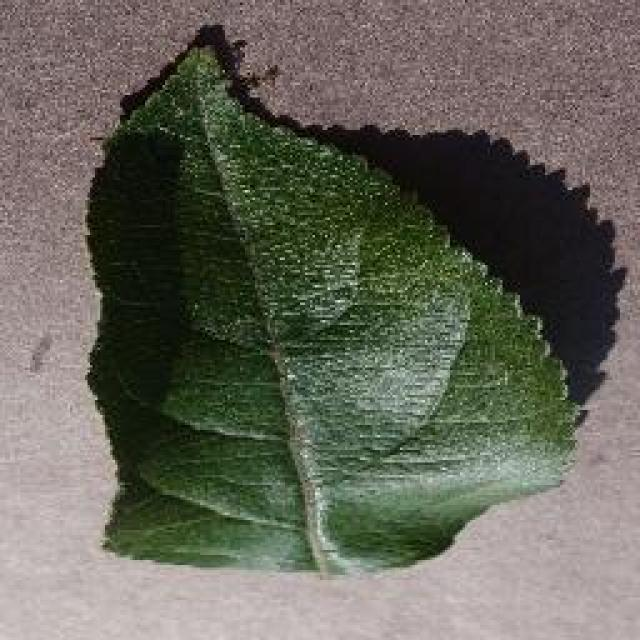apple healthy: (80, 22, 590, 578)
